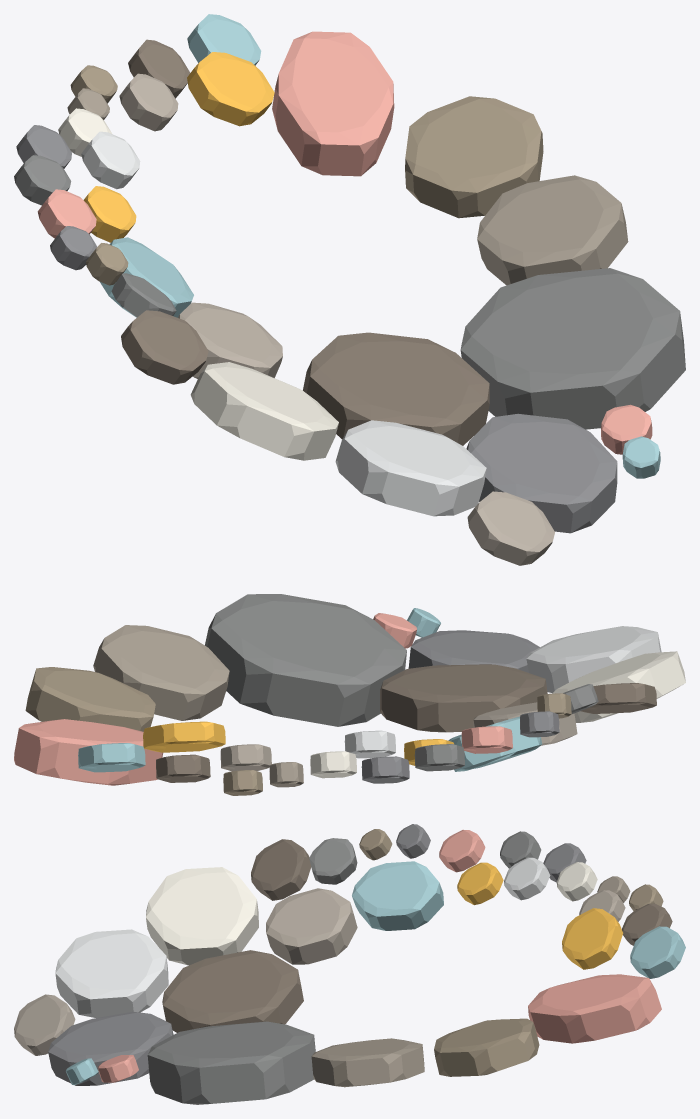
The model's file is mirrodin.obj.
The picture shows the model from 3 angles, top to bottom: view 1: azimuth 30°, elevation 25°; view 2: azimuth 150°, elevation 25°; view 3: azimuth 270°, elevation 25°; orthographic projection. The views are drawn at different scales.
Visible parts, largest first — view 1: Cylinder.001_Cylinder.002, Cylinder, Cylinder.005_Cylinder.006, Cylinder.003_Cylinder.004, Cylinder.004_Cylinder.005, Cylinder.002_Cylinder.003, Cylinder.020_Cylinder.021, Cylinder.021_Cylinder.022, Cylinder.022_Cylinder.023, Cylinder.028_Cylinder.029, Cylinder.019_Cylinder.020, Cylinder.006_Cylinder.007 (+16 smaller); view 2: Cylinder.001_Cylinder.002, Cylinder.004_Cylinder.005, Cylinder, Cylinder.005_Cylinder.006, Cylinder.003_Cylinder.004, Cylinder.020_Cylinder.021, Cylinder.002_Cylinder.003, Cylinder.021_Cylinder.022, Cylinder.019_Cylinder.020, Cylinder.022_Cylinder.023, Cylinder.018_Cylinder.019, Cylinder.007_Cylinder.008 (+16 smaller); view 3: Cylinder.001_Cylinder.002, Cylinder, Cylinder.021_Cylinder.022, Cylinder.020_Cylinder.021, Cylinder.005_Cylinder.006, Cylinder.006_Cylinder.007, Cylinder.002_Cylinder.003, Cylinder.007_Cylinder.008, Cylinder.003_Cylinder.004, Cylinder.004_Cylinder.005, Cylinder.019_Cylinder.020, Cylinder.022_Cylinder.023 (+17 smaller).
Part boxes in pixels (left/top/right/bottom): Cylinder.001_Cylinder.002: left=460, top=268, right=685, bottom=429; Cylinder: left=303, top=332, right=489, bottom=445; Cylinder.005_Cylinder.006: left=272, top=31, right=394, bottom=176; Cylinder.003_Cylinder.004: left=405, top=96, right=543, bottom=218; Cylinder.004_Cylinder.005: left=477, top=175, right=628, bottom=285; Cylinder.002_Cylinder.003: left=466, top=413, right=617, bottom=533; Cylinder.020_Cylinder.021: left=335, top=420, right=486, bottom=516; Cylinder.021_Cylinder.022: left=190, top=362, right=338, bottom=460; Cylinder.022_Cylinder.023: left=121, top=310, right=208, bottom=384; Cylinder.028_Cylinder.029: left=467, top=491, right=554, bottom=565; Cylinder.019_Cylinder.020: left=187, top=52, right=274, bottom=126; Cylinder.006_Cylinder.007: left=178, top=302, right=282, bottom=378; Cylinder.001_Cylinder.002: left=205, top=594, right=406, bottom=726; Cylinder.004_Cylinder.005: left=93, top=625, right=229, bottom=720; Cylinder: left=380, top=664, right=547, bottom=732; Cylinder.005_Cylinder.006: left=14, top=719, right=163, bottom=785; Cylinder.003_Cylinder.004: left=25, top=667, right=155, bottom=731; Cylinder.020_Cylinder.021: left=526, top=626, right=661, bottom=693; Cylinder.002_Cylinder.003: left=408, top=630, right=539, bottom=672; Cylinder.021_Cylinder.022: left=552, top=651, right=685, bottom=722; Cylinder.019_Cylinder.020: left=143, top=721, right=225, bottom=752; Cylinder.022_Cylinder.023: left=580, top=683, right=656, bottom=713; Cylinder.018_Cylinder.019: left=78, top=743, right=145, bottom=772; Cylinder.007_Cylinder.008: left=448, top=716, right=542, bottom=771; Cylinder.001_Cylinder.002: left=147, top=1021, right=315, bottom=1104; Cylinder: left=162, top=950, right=303, bottom=1032; Cylinder.021_Cylinder.022: left=146, top=867, right=258, bottom=965; Cylinder.020_Cylinder.021: left=55, top=929, right=168, bottom=1017; Cylinder.005_Cylinder.006: left=528, top=974, right=661, bottom=1043; Cylinder.006_Cylinder.007: left=266, top=888, right=357, bottom=964; Cylinder.002_Cylinder.003: left=48, top=1011, right=173, bottom=1085; Cylinder.007_Cylinder.008: left=352, top=861, right=443, bottom=930; Cylinder.003_Cylinder.004: left=434, top=1018, right=539, bottom=1076; Cylinder.004_Cylinder.005: left=311, top=1038, right=424, bottom=1087; Cylinder.019_Cylinder.020: left=562, top=908, right=623, bottom=969; Cylinder.022_Cylinder.023: left=251, top=839, right=311, bottom=900.
Size of the model in its own units: 15.87 by 5.78 by 22.3.
